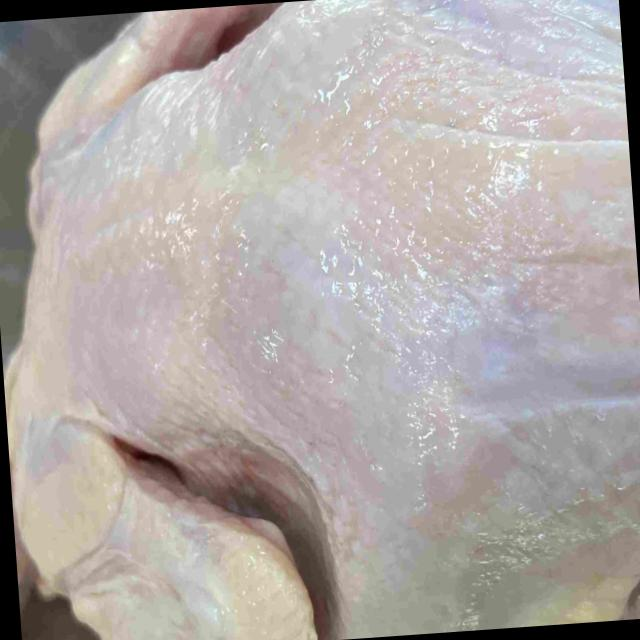back: (61, 0, 640, 508)
wing: (10, 393, 314, 640), (33, 1, 289, 187)
